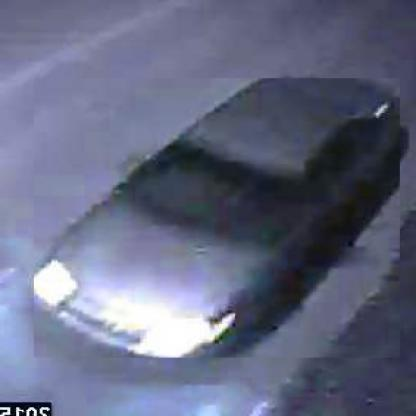car: (33, 79, 401, 360)
